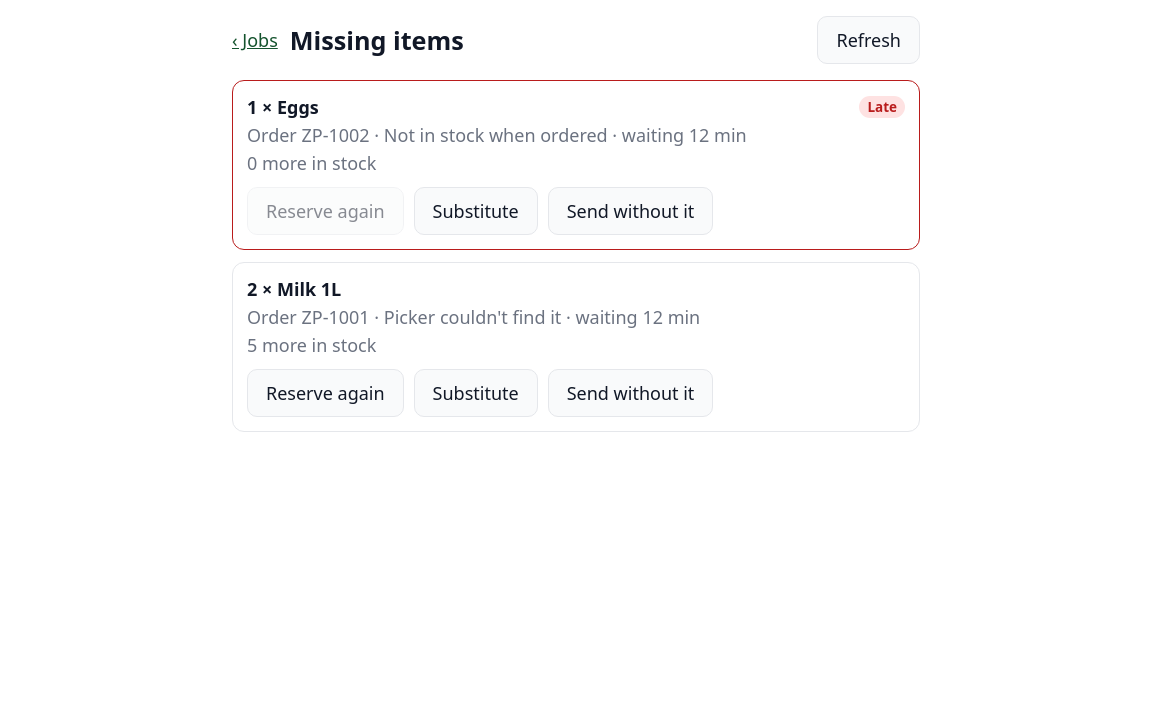
Test case: missing items screen › reserves again with a reason and refreshes the list
Click the button "Reserve again" below "Milk 1L". click: coordinates (325, 393)
box: x1=247 y1=369 x2=404 y2=417
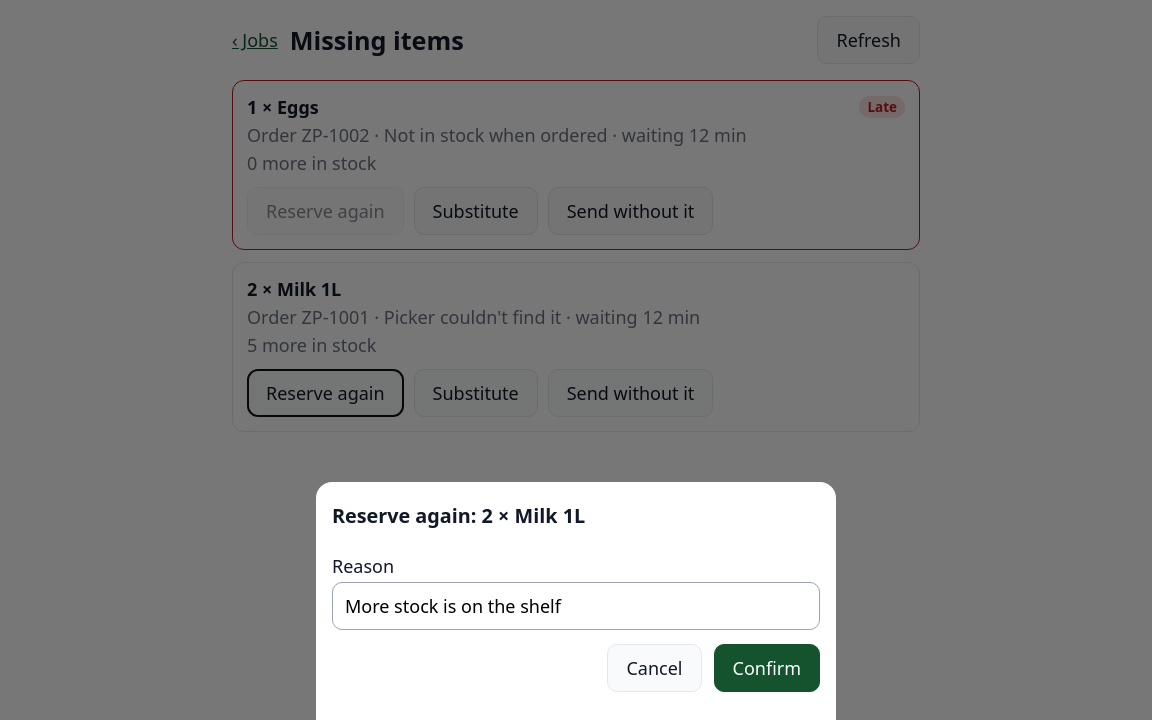
Click the button "Confirm". click: coordinates (767, 668)
box: x1=714 y1=644 x2=820 y2=692
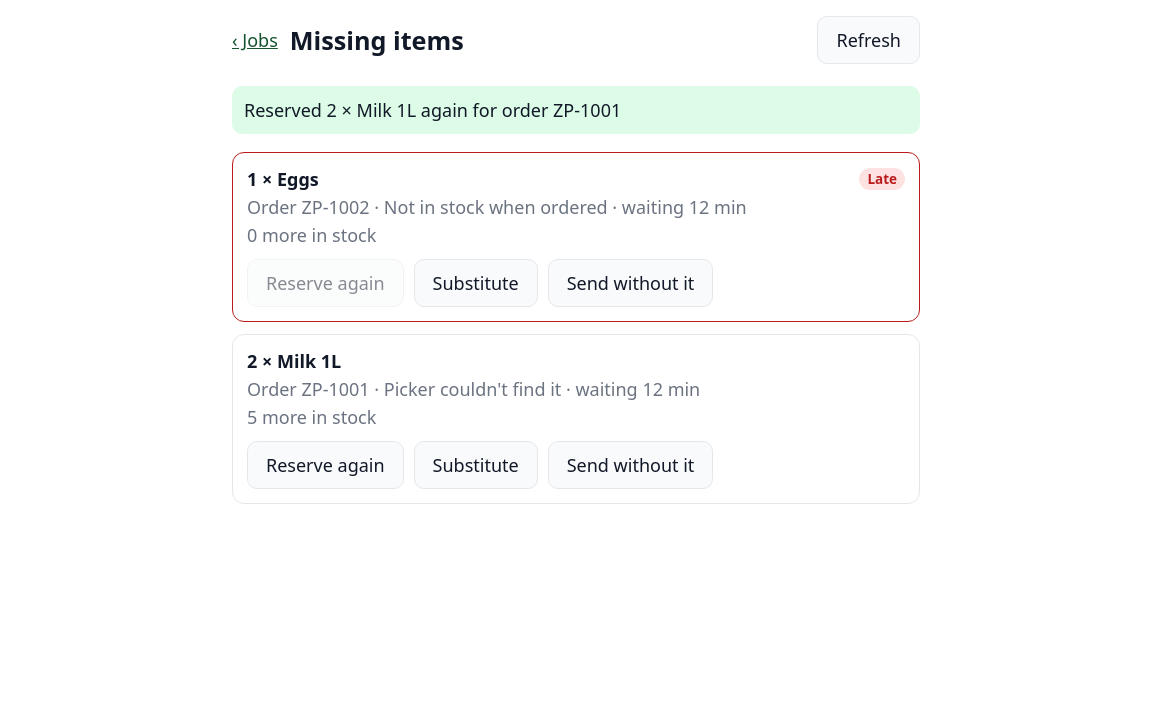
Check: the message reads "Reserved 2 × Milk 1L again for order ZP-1001", box x1=244 y1=98 x2=621 y2=122
Check: the dialog is gone
